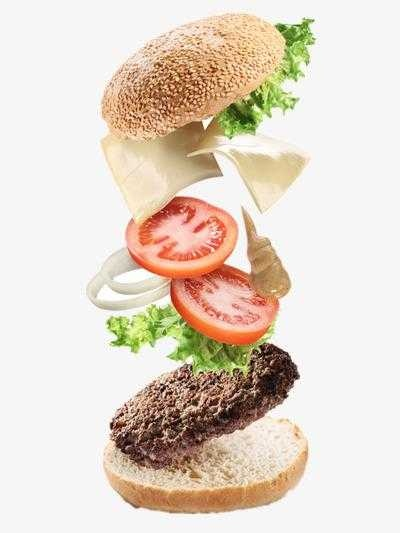hamburger: (93, 16, 333, 505)
